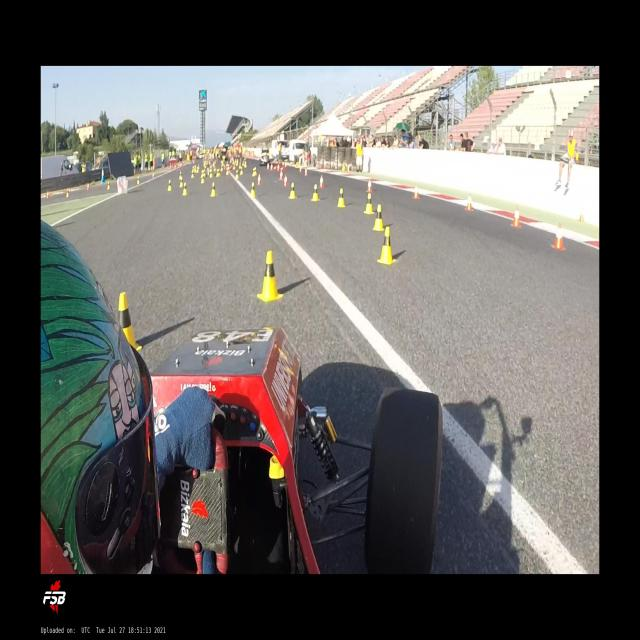orange_cone: (551, 222, 565, 251), (510, 206, 521, 228), (465, 193, 473, 212), (412, 186, 419, 200), (366, 179, 373, 193), (319, 175, 325, 188), (283, 174, 289, 187), (258, 173, 262, 186), (280, 170, 284, 182), (304, 168, 308, 176), (87, 184, 90, 192), (47, 191, 50, 198), (153, 172, 155, 178)
yellow_cone: (118, 292, 142, 352), (257, 250, 284, 302), (377, 226, 397, 264), (372, 204, 384, 230), (363, 192, 375, 214), (336, 188, 346, 208), (310, 183, 320, 201), (288, 182, 297, 199), (577, 208, 584, 224), (210, 182, 217, 196), (250, 182, 256, 196), (182, 182, 188, 195), (167, 179, 172, 191), (341, 162, 346, 171), (179, 177, 183, 188), (200, 174, 204, 184), (107, 180, 111, 190), (252, 167, 256, 176), (239, 166, 243, 175), (66, 189, 70, 197), (136, 176, 140, 184), (209, 170, 213, 177), (191, 170, 194, 178), (179, 171, 182, 179), (244, 160, 247, 168), (217, 169, 220, 176), (236, 170, 238, 179), (226, 167, 228, 176)
